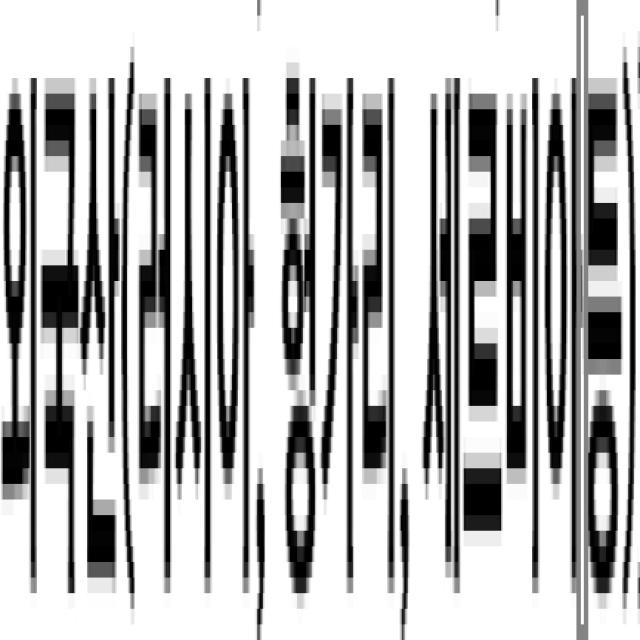bold: (3, 22, 636, 636)
